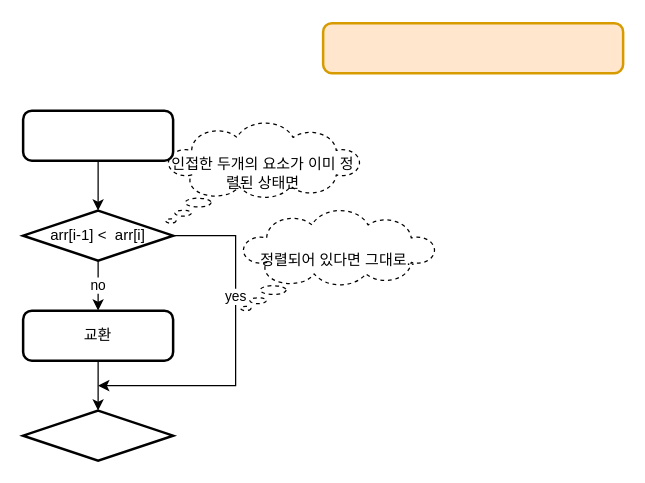
Image size: 645x483. Some labels were removed from this diagram. Here are the shapes that lost their labels. From the top down, the box of each, then its label:
(321, 21, 624, 74): 정렬 - 단순 교환법
(21, 109, 174, 161): i = 0
